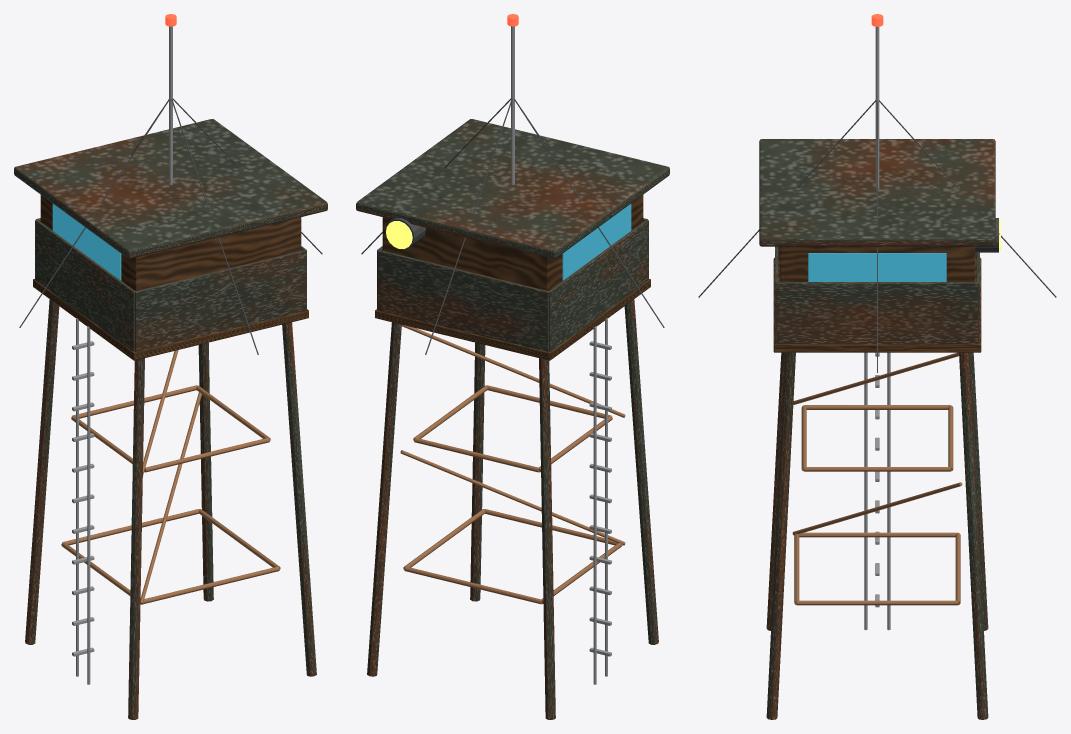
Rendered from watchtower.glb.
3 renders of one model, left to right at view 1: azimuth 30°, elevation 25°; view 2: azimuth 150°, elevation 25°; view 3: azimuth 270°, elevation 25°, orthographic. The views are drawn at different scales.
Parts seen in each view (by area): view 1: Roof.002, RailingB_-1, Cabin, Railing_-1, Leg_-1.5_-1.5, Leg_1.5_-1.5, Leg_-1.5_1.5, Leg_1.5_1.5, Platform, Window_-1, LadderRailL, LadderRailR (+8 smaller); view 2: Roof.002, RailingB_1, Railing_-1, Cabin, Leg_-1.5_1.5, Leg_1.5_1.5, Leg_-1.5_-1.5, Leg_1.5_-1.5, Platform, Window_-1, LadderRailR, Diagonal_2.0 (+9 smaller); view 3: Roof.002, Railing_1, Leg_1.5_-1.5, Leg_1.5_1.5, Window_1, Cabin, Platform, Leg_-1.5_-1.5, Leg_-1.5_1.5, LadderRailR, LadderRailL, BraceY_2.0_1 (+6 smaller).
Part boxes in pixels (bbox=[...]): Roof.002: bbox=[14, 119, 327, 258]; RailingB_-1: bbox=[135, 250, 306, 351]; Cabin: bbox=[40, 195, 301, 290]; Railing_-1: bbox=[35, 219, 134, 351]; Leg_-1.5_-1.5: bbox=[128, 358, 144, 719]; Leg_1.5_-1.5: bbox=[282, 322, 316, 676]; Leg_-1.5_1.5: bbox=[25, 299, 59, 644]; Leg_1.5_1.5: bbox=[198, 342, 213, 601]; Platform: bbox=[33, 279, 308, 360]; Window_-1: bbox=[52, 203, 121, 280]; LadderRailL: bbox=[87, 326, 90, 684]; LadderRailR: bbox=[76, 318, 78, 676]; Roof.002: bbox=[356, 119, 669, 258]; RailingB_1: bbox=[377, 250, 548, 351]; Railing_-1: bbox=[549, 219, 648, 351]; Cabin: bbox=[382, 195, 643, 290]; Leg_-1.5_1.5: bbox=[539, 358, 555, 719]; Leg_1.5_1.5: bbox=[367, 322, 401, 676]; Leg_-1.5_-1.5: bbox=[624, 299, 658, 644]; Leg_1.5_-1.5: bbox=[470, 342, 485, 601]; Platform: bbox=[375, 279, 650, 360]; Window_-1: bbox=[562, 203, 631, 280]; LadderRailR: bbox=[593, 326, 596, 684]; Diagonal_2.0: bbox=[400, 450, 625, 545]; Roof.002: bbox=[759, 139, 995, 246]; Railing_1: bbox=[776, 282, 978, 344]; Leg_1.5_-1.5: bbox=[766, 352, 795, 719]; Leg_1.5_1.5: bbox=[959, 352, 988, 719]; Window_1: bbox=[808, 253, 946, 281]; Cabin: bbox=[779, 246, 975, 281]; Platform: bbox=[773, 257, 981, 352]; Leg_-1.5_-1.5: bbox=[766, 352, 785, 630]; Leg_-1.5_1.5: bbox=[969, 352, 988, 630]; LadderRailR: bbox=[887, 352, 890, 629]; LadderRailL: bbox=[864, 352, 867, 629]; BraceY_2.0_1: bbox=[797, 600, 957, 605].
Bounding box in the file's own units: 6.21 × 12.59 × 6.21.
Materials: 8 (2 with a texture image).
